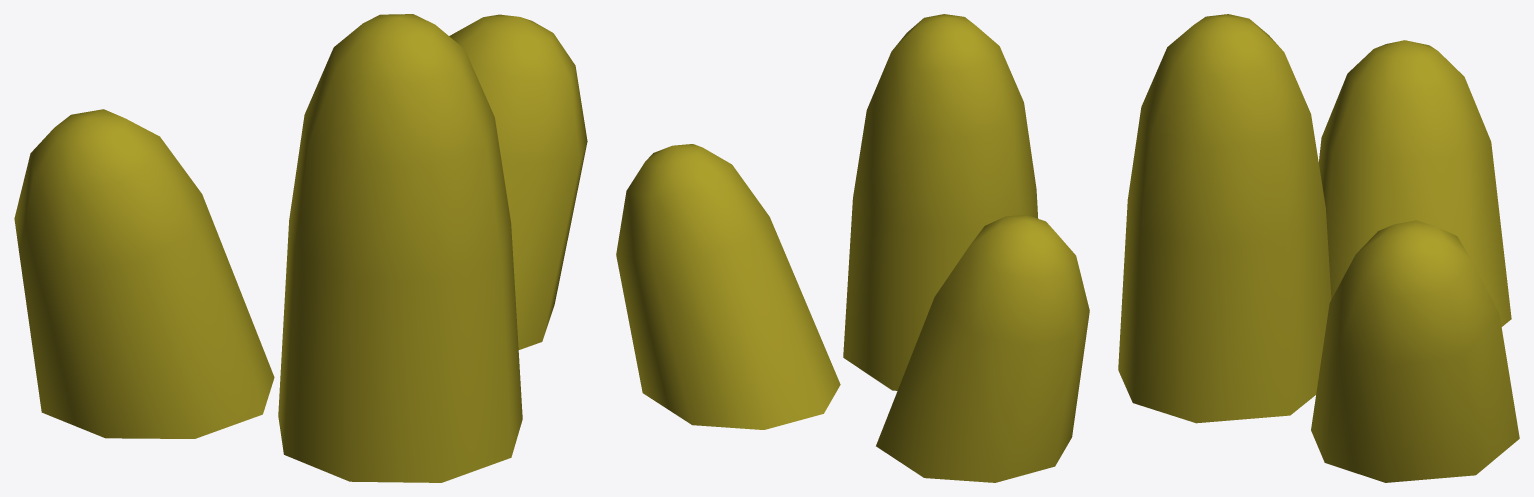
Rendered from grass_1.glb.
3 renders of one model, left to right at view 1: azimuth 30°, elevation 25°; view 2: azimuth 150°, elevation 25°; view 3: azimuth 270°, elevation 25°, orthographic. The views are drawn at different scales.
Parts seen in each view (by area): view 1: grass_1; view 2: grass_1; view 3: grass_1.
Part boxes in pixels (x1=…): grass_1: x1=14, y1=14, x2=587, y2=482; grass_1: x1=616, y1=14, x2=1089, y2=482; grass_1: x1=1118, y1=14, x2=1519, y2=482.
Size of the model in its own units: 0.663 by 0.4749 by 0.4804.
Materials: 1 (1 with a texture image).
